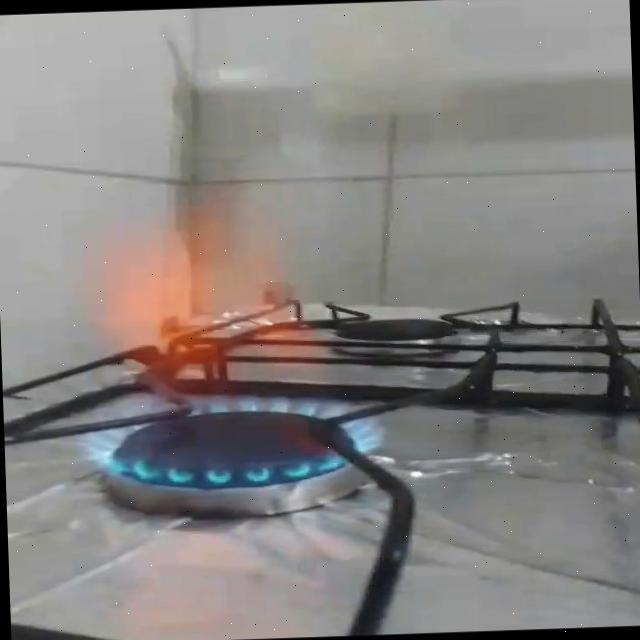fire: (59, 170, 392, 492)
